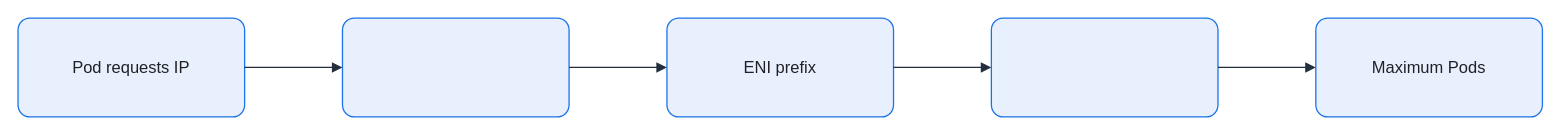
Some shapes in this 1561 by 136 pixel diagram are drawn without their labels. Each missing label, with the centre of its shape:
"Node IP capacity" belongs at [1104,67].
"VPC CNI" belongs at [455,67].
